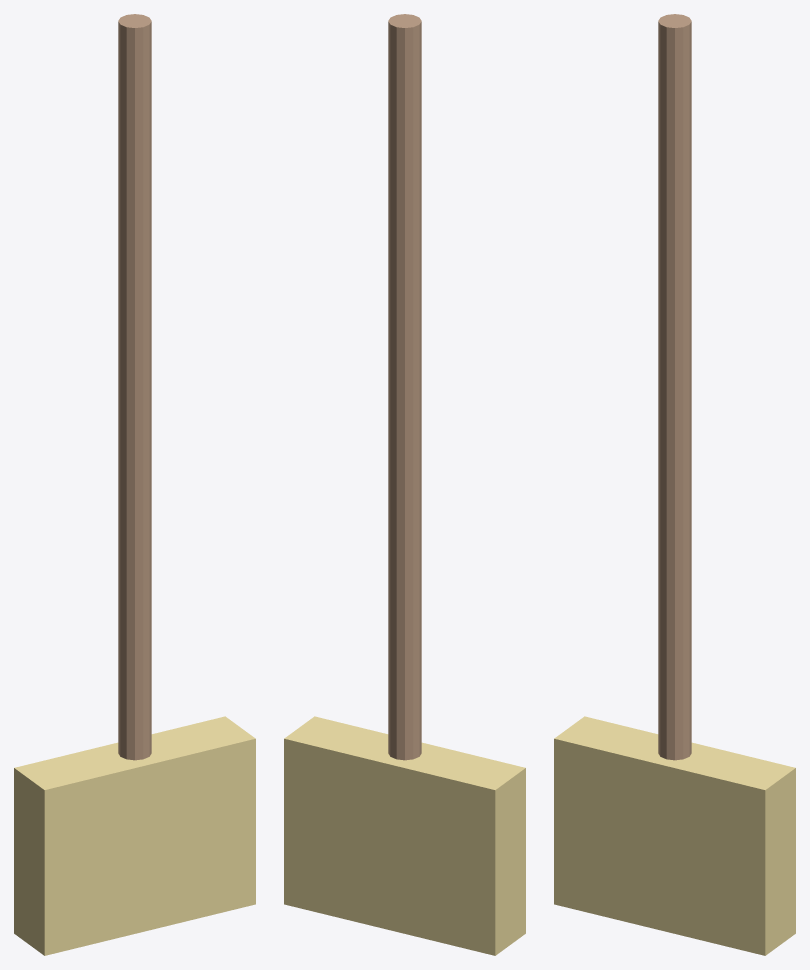
File: broom.glb
3 views of the same model, side by side, from view 1: azimuth 30°, elevation 25°; view 2: azimuth 150°, elevation 25°; view 3: azimuth 330°, elevation 25° (orthographic).
Parts seen in each view (by area): view 1: broom_001, broom_000; view 2: broom_001, broom_000; view 3: broom_001, broom_000.
Boxes of the visible parts, bbox=[...] form: broom_001: bbox=[14, 716, 255, 955]; broom_000: bbox=[118, 14, 151, 760]; broom_001: bbox=[284, 716, 525, 955]; broom_000: bbox=[388, 14, 421, 760]; broom_001: bbox=[554, 716, 795, 955]; broom_000: bbox=[658, 14, 691, 760].
Size of the model in its own units: 0.32 by 1.3 by 0.08.
